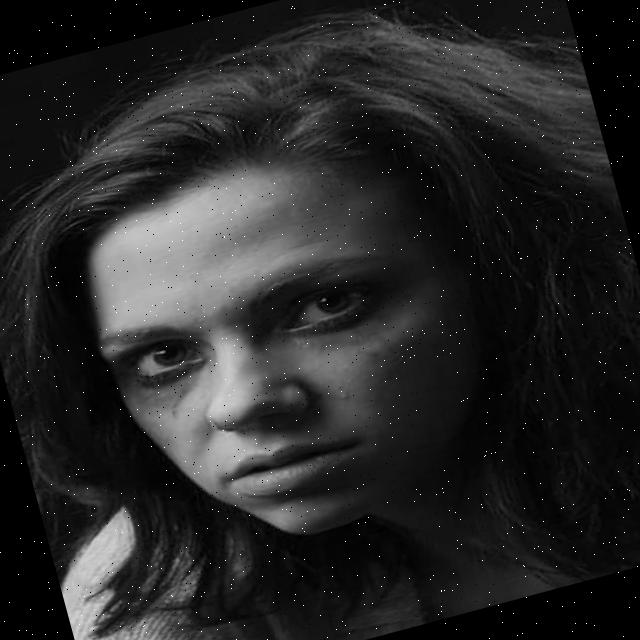Sadness: (70, 140, 488, 576)
